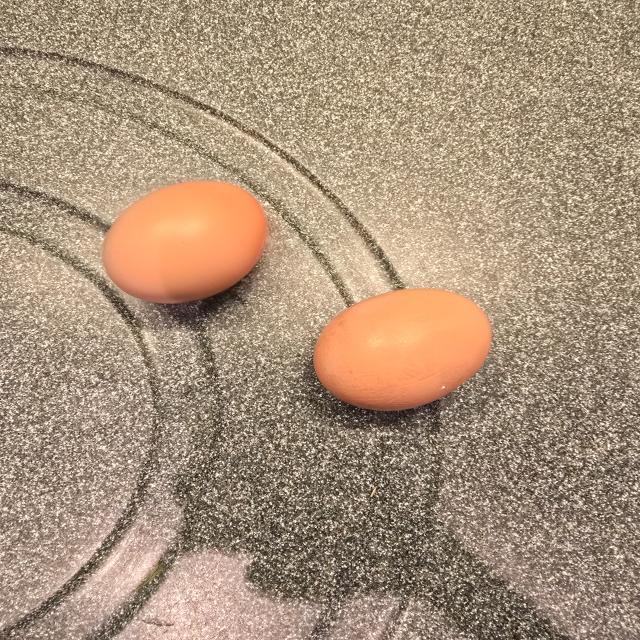Egg: (314, 289, 491, 410), (102, 181, 267, 303)
